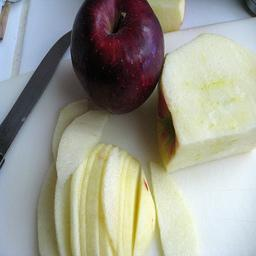apple: (70, 2, 166, 115)
